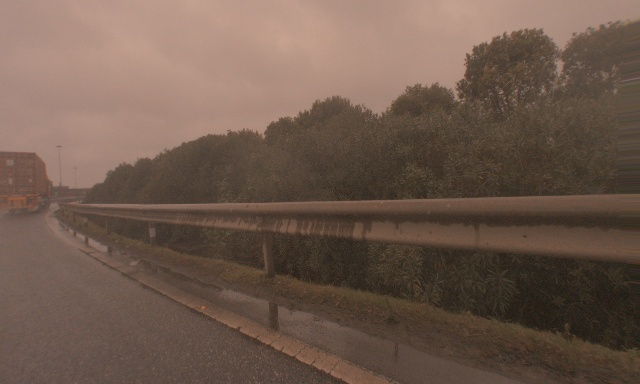truck: (0, 152, 51, 212)
